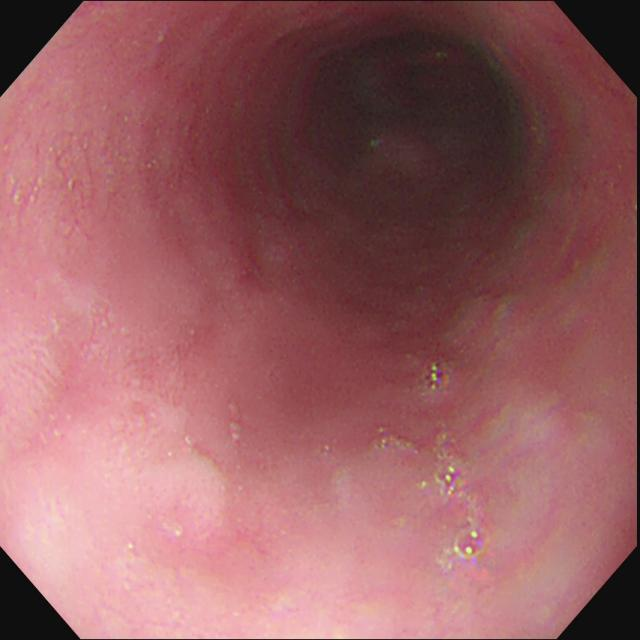T: (456, 523, 489, 560), (433, 465, 462, 497), (424, 358, 448, 393)
